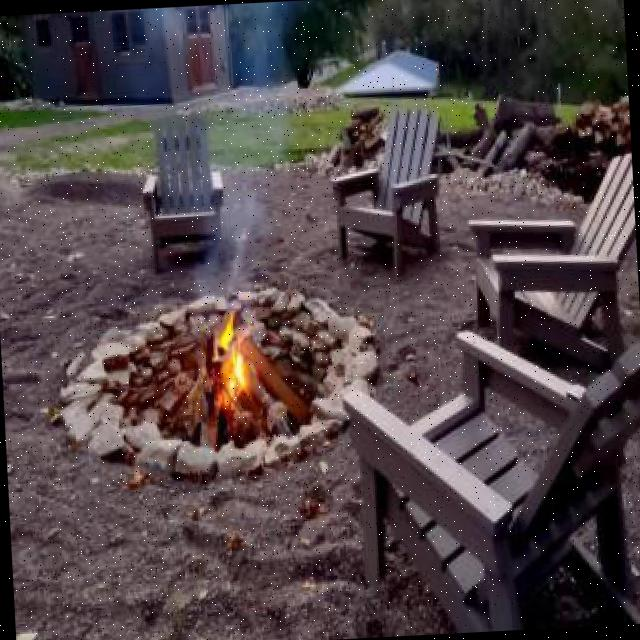fire: (210, 312, 263, 419)
